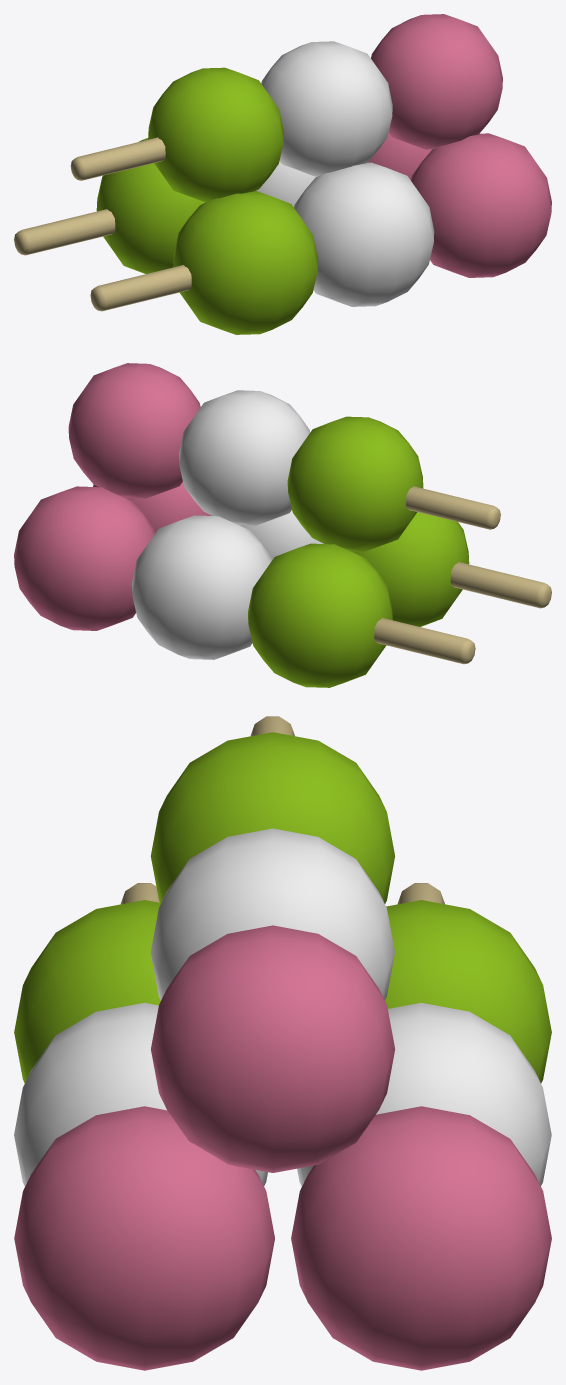
The model's file is Food_Dango.fbx.
The picture shows the model from 3 angles, top to bottom: view 1: azimuth 30°, elevation 25°; view 2: azimuth 150°, elevation 25°; view 3: azimuth 270°, elevation 25°; orthographic projection. The views are drawn at different scales.
Visible parts, largest first — view 1: Food_Dango; view 2: Food_Dango; view 3: Food_Dango.
Boxes of the visible parts, left/top/right/bottom form: Food_Dango: left=14, top=14, right=551, bottom=334; Food_Dango: left=14, top=363, right=551, bottom=687; Food_Dango: left=14, top=716, right=551, bottom=1370.
Size of the model in its own units: 91.44 by 44.29 by 52.56.
